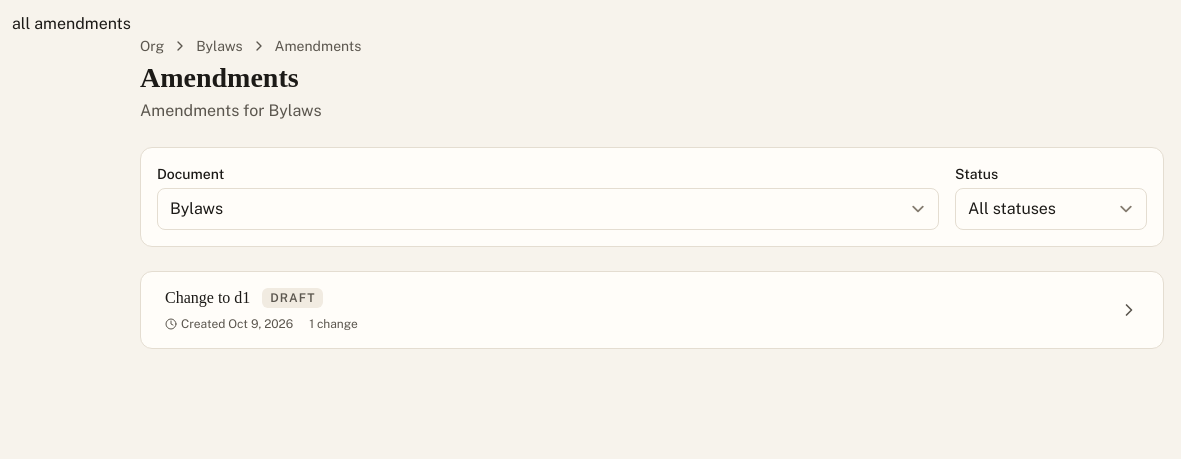
Test: AmendmentsPage › drops one document's filter when moving to all amendments
This screenshot has width=1181, height=459.
Check: the text "Amendments for Bylaws" is shown, box [140,101,322,120]
Click the link "all amendments".
click(71, 24)  # box [12,14,131,33]
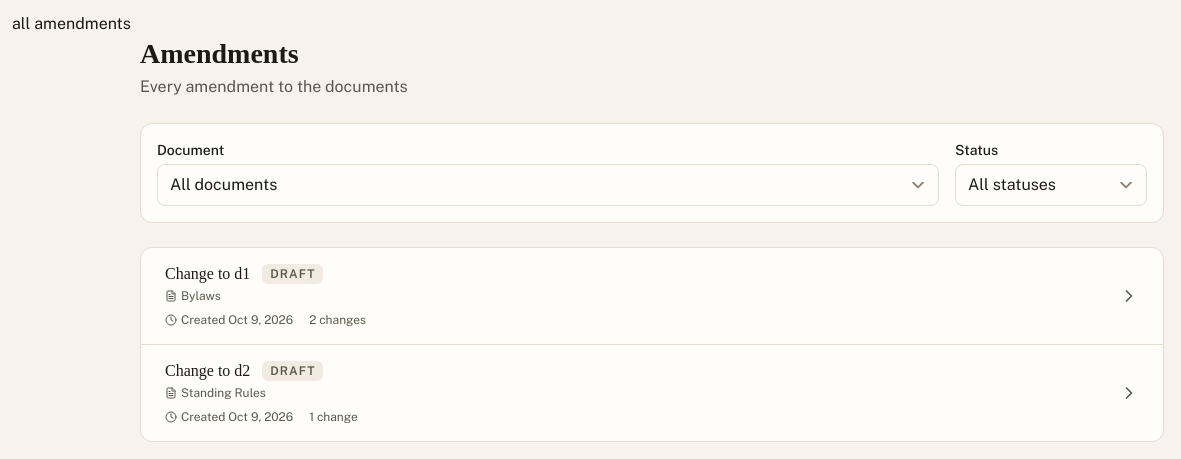
Check: the heading "Change to d2" is shown, box [165,361,250,381]
Check: the text "Amendments for Bylaws" is gone
